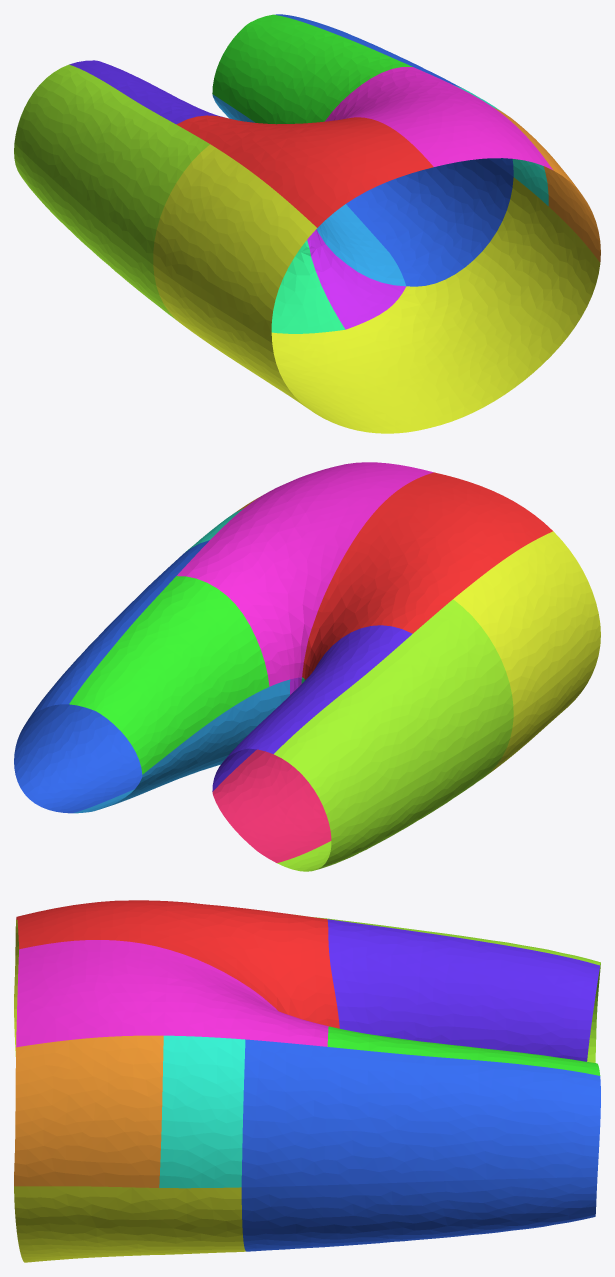
The model's file is shorts_garmentA.obj.
3 renders of one model, top to bottom at view 1: azimuth 30°, elevation 25°; view 2: azimuth 150°, elevation 25°; view 3: azimuth 270°, elevation 25°, orthographic. The views are drawn at different scales.
Visible parts, largest first — view 1: shorts_garmentA; view 2: shorts_garmentA; view 3: shorts_garmentA.
Boxes of the visible parts, x1,y1,x2,y2 form: shorts_garmentA: [14, 14, 600, 433]; shorts_garmentA: [14, 462, 600, 871]; shorts_garmentA: [14, 900, 600, 1262].
Bounding box in the file's own units: 551 × 398 × 702.
